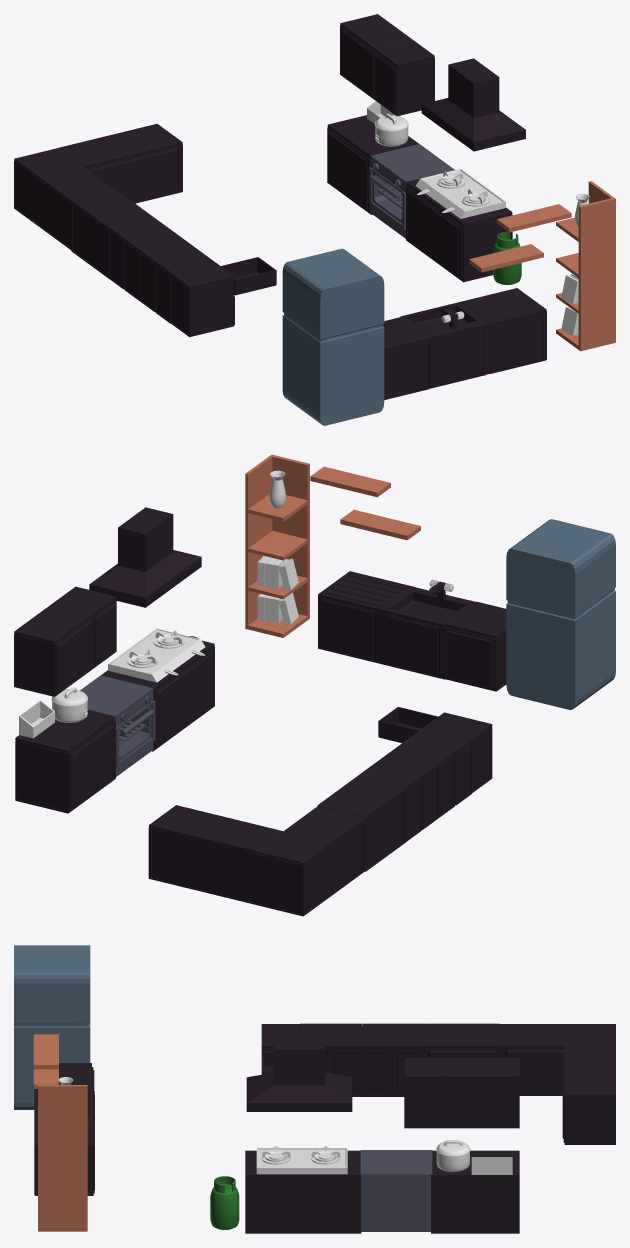
Rendered from Room_Kitchen.fbx.
3 renders of one model, top to bottom at view 1: azimuth 30°, elevation 25°; view 2: azimuth 150°, elevation 25°; view 3: azimuth 270°, elevation 25°, orthographic. The views are drawn at different scales.
Visible parts, largest first — view 1: Kitchen_Kulkas, Kitchen_Counter_9, Kitchen_Shelf, Kitchen_Counter_8, Kitchen_Counter_2, Kitchen_Counter3, Kitchen_Counter_7, Kitchen_Cerobong, Kitchen_Oven, Kitchen_Counter_1, Kitchen_Cabinet_2, Kitchen_Counter_6 (+10 smaller); view 2: Kitchen_Kulkas_Door, Kitchen_Counter_9, Kitchen_Counter_7, Kitchen_Counter_8, Kitchen_Shelf, Kitchen_Counter_1, Kitchen_Kulkas, Kitchen_Cerobong, Kitchen_Cabinet_1, Kitchen_Counter_10, Kitchen_Counter_2, Kitchen_Counter_6 (+10 smaller); view 3: Kitchen_Kulkas, Kitchen_Counter_2, Kitchen_Shelf, Kitchen_Counter_1, Kitchen_Cerobong, Kitchen_Oven, Kitchen_Counter_8, Kitchen_Cabinet_1, Kitchen_Counter_7, Kitchen_Counter_5, Kitchen_Cabinet_2, Kitchen_Counter_6 (+10 smaller).
Boxes of the visible parts, <box> form: Kitchen_Kulkas: <box>289,253,384,425</box>; Kitchen_Counter_9: <box>400,288,546,388</box>; Kitchen_Shelf: <box>556,181,615,351</box>; Kitchen_Counter_8: <box>58,124,182,203</box>; Kitchen_Counter_2: <box>406,179,512,282</box>; Kitchen_Counter3: <box>170,257,276,337</box>; Kitchen_Counter_7: <box>14,148,114,249</box>; Kitchen_Cerobong: <box>421,58,525,151</box>; Kitchen_Oven: <box>368,144,454,238</box>; Kitchen_Counter_1: <box>327,115,418,214</box>; Kitchen_Cabinet_2: <box>375,40,434,116</box>; Kitchen_Counter_6: <box>71,190,152,278</box>; Kitchen_Kulkas_Door: <box>506,543,582,709</box>; Kitchen_Counter_9: <box>318,571,474,679</box>; Kitchen_Counter_7: <box>256,806,365,916</box>; Kitchen_Counter_8: <box>148,805,282,904</box>; Kitchen_Shelf: <box>245,454,309,637</box>; Kitchen_Counter_1: <box>15,710,115,813</box>; Kitchen_Kulkas: <box>517,519,615,703</box>; Kitchen_Cerobong: <box>89,507,201,607</box>; Kitchen_Cabinet_1: <box>14,603,93,696</box>; Kitchen_Counter_10: <box>445,601,506,691</box>; Kitchen_Counter_2: <box>101,640,214,751</box>; Kitchen_Counter_6: <box>317,776,405,871</box>; Kitchen_Kulkas: <box>14,945,76,1109</box>; Kitchen_Counter_2: <box>245,1150,361,1233</box>; Kitchen_Shelf: <box>38,1069,87,1231</box>; Kitchen_Counter_1: <box>431,1150,519,1233</box>; Kitchen_Cerobong: <box>246,1037,352,1111</box>; Kitchen_Oven: <box>360,1150,432,1231</box>; Kitchen_Counter_8: <box>562,1045,615,1144</box>; Kitchen_Cabinet_1: <box>447,1057,519,1128</box>; Kitchen_Counter_7: <box>499,1024,615,1095</box>; Kitchen_Counter_5: <box>362,1023,424,1096</box>; Kitchen_Cabinet_2: <box>404,1057,447,1128</box>; Kitchen_Counter_6: <box>424,1023,499,1059</box>.
Bounding box in the file's own units: 5.82 × 9.12 × 3.08.
